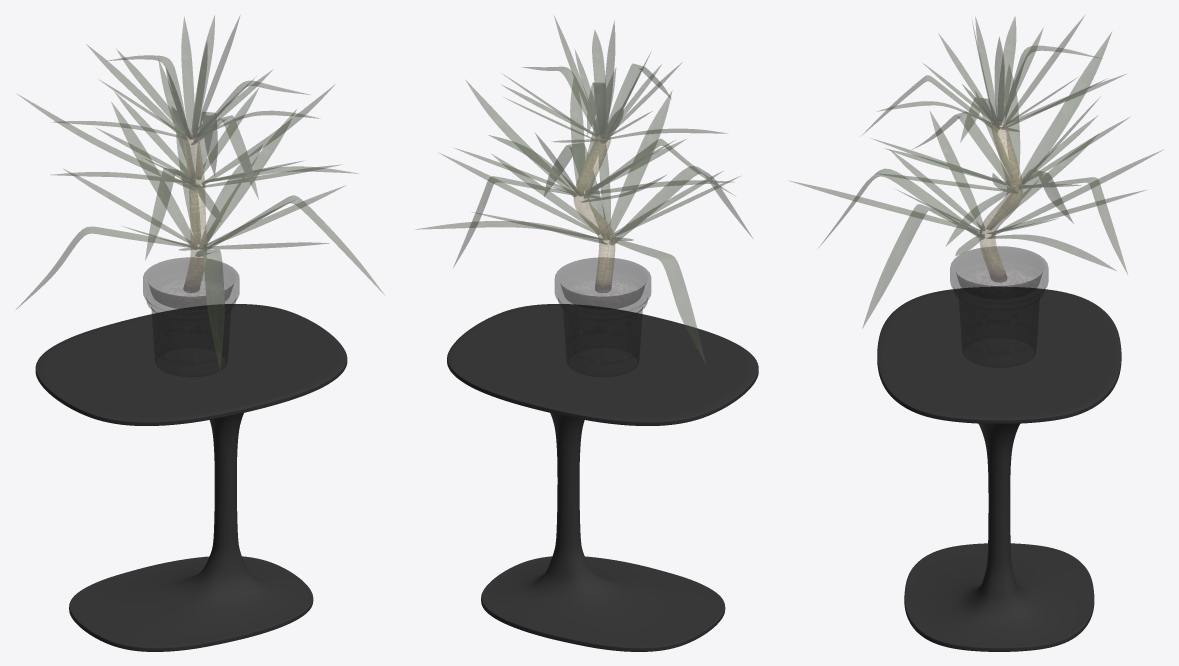
The model's file is plant1.glb.
3 views of the same model, side by side, from view 1: azimuth 30°, elevation 25°; view 2: azimuth 150°, elevation 25°; view 3: azimuth 270°, elevation 25° (orthographic).
Parts seen in each view (by area): view 1: side table Awa Outdoor; view 2: side table Awa Outdoor; view 3: side table Awa Outdoor.
Boxes of the visible parts, x1,y1,x2,y2 form: side table Awa Outdoor: (17,15,383,651); side table Awa Outdoor: (416,16,758,651); side table Awa Outdoor: (790,16,1162,651).
Size of the model in its own units: 138 by 270 by 157.
2 materials, 1 textured.
